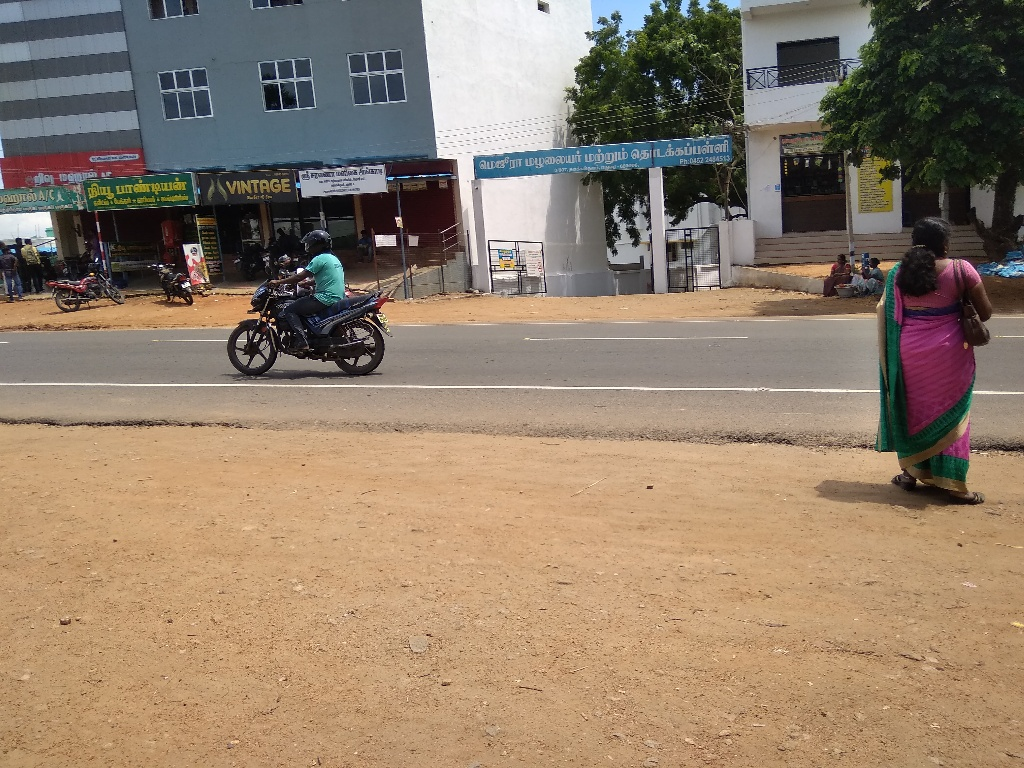biker: (221, 197, 403, 383)
helmet: (301, 218, 339, 266)
